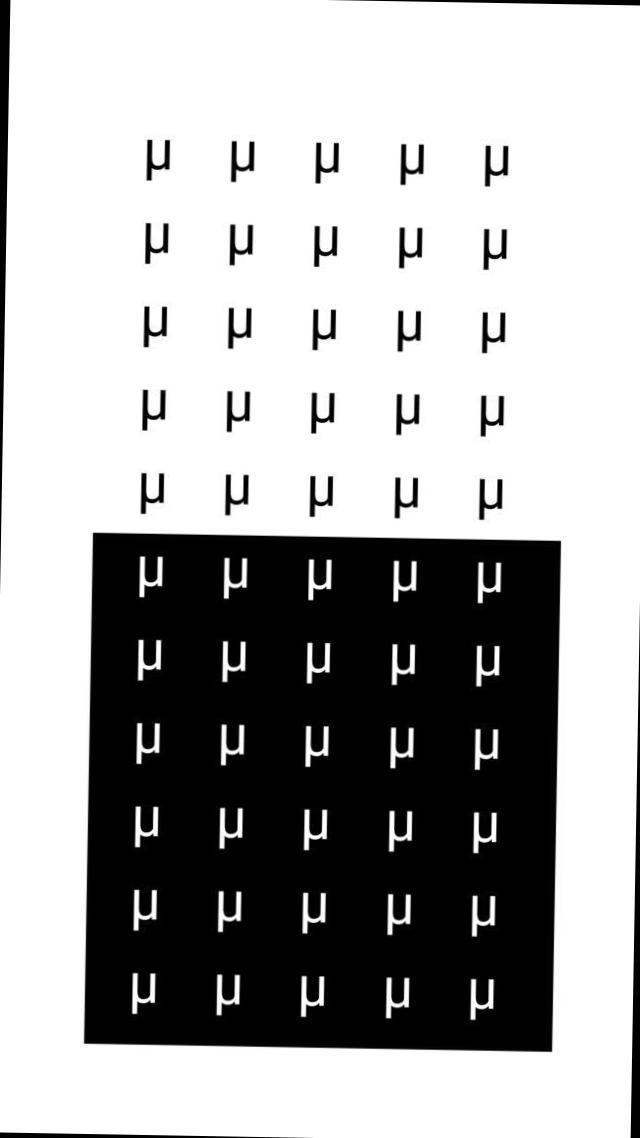ASCII: (461, 130, 526, 200), (293, 548, 342, 612), (212, 466, 262, 522), (137, 120, 179, 185), (306, 125, 346, 190), (303, 218, 347, 276), (379, 883, 422, 941), (382, 552, 424, 611), (470, 470, 512, 528), (292, 801, 336, 856), (393, 130, 432, 191), (223, 127, 262, 188), (130, 467, 174, 521), (470, 385, 510, 442), (384, 470, 426, 524), (302, 462, 339, 523), (135, 302, 175, 358), (390, 222, 430, 278), (462, 972, 502, 1028), (207, 804, 250, 856), (125, 798, 164, 855), (212, 883, 250, 941), (380, 804, 420, 859), (130, 553, 171, 606), (381, 722, 422, 775), (466, 721, 504, 778), (295, 884, 332, 942), (138, 220, 176, 276), (297, 721, 337, 774), (210, 964, 245, 1024), (135, 383, 173, 438), (476, 306, 512, 363), (127, 718, 167, 769), (224, 221, 260, 277), (295, 968, 331, 1024), (125, 885, 163, 938), (213, 555, 254, 604), (464, 887, 499, 944), (214, 720, 252, 772), (468, 806, 503, 862), (306, 301, 342, 355), (126, 967, 162, 1020), (223, 300, 258, 354), (393, 304, 428, 358), (476, 221, 510, 275), (377, 976, 416, 1023), (222, 385, 256, 438), (392, 389, 426, 442), (306, 388, 339, 440), (386, 638, 420, 687), (134, 641, 169, 688), (300, 637, 334, 685), (472, 646, 506, 694), (470, 728, 504, 775), (217, 636, 250, 684), (300, 723, 332, 771), (472, 554, 502, 604)
